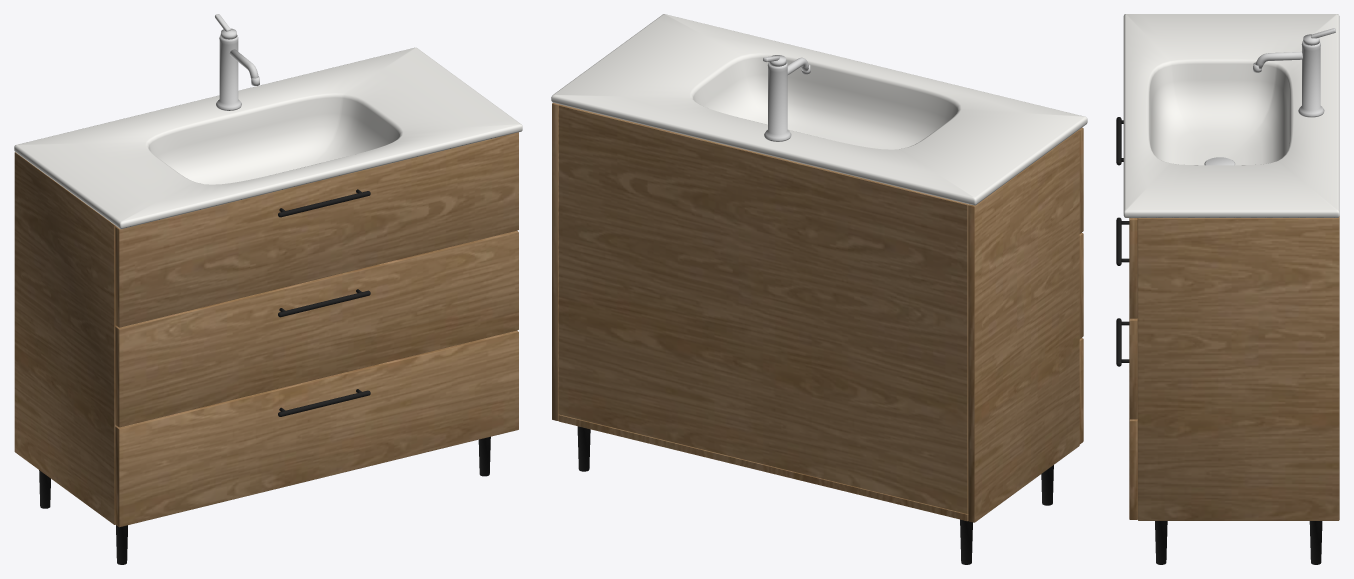
The model's file is mueble_lavabo_suelo_100.glb.
3 renders of one model, left to right at view 1: azimuth 30°, elevation 25°; view 2: azimuth 150°, elevation 25°; view 3: azimuth 270°, elevation 25°, orthographic. The views are drawn at different scales.
Parts seen in each view (by area): view 1: mueble_lavabo_suelo_100; view 2: mueble_lavabo_suelo_100; view 3: mueble_lavabo_suelo_100.
Part boxes in pixels (x1=…): mueble_lavabo_suelo_100: x1=14, y1=14, x2=522, y2=564; mueble_lavabo_suelo_100: x1=551, y1=14, x2=1087, y2=564; mueble_lavabo_suelo_100: x1=1116, y1=14, x2=1339, y2=564.
Bounding box in the file's own units: 1 × 1.05 × 0.4755.
4 materials, 1 textured.
